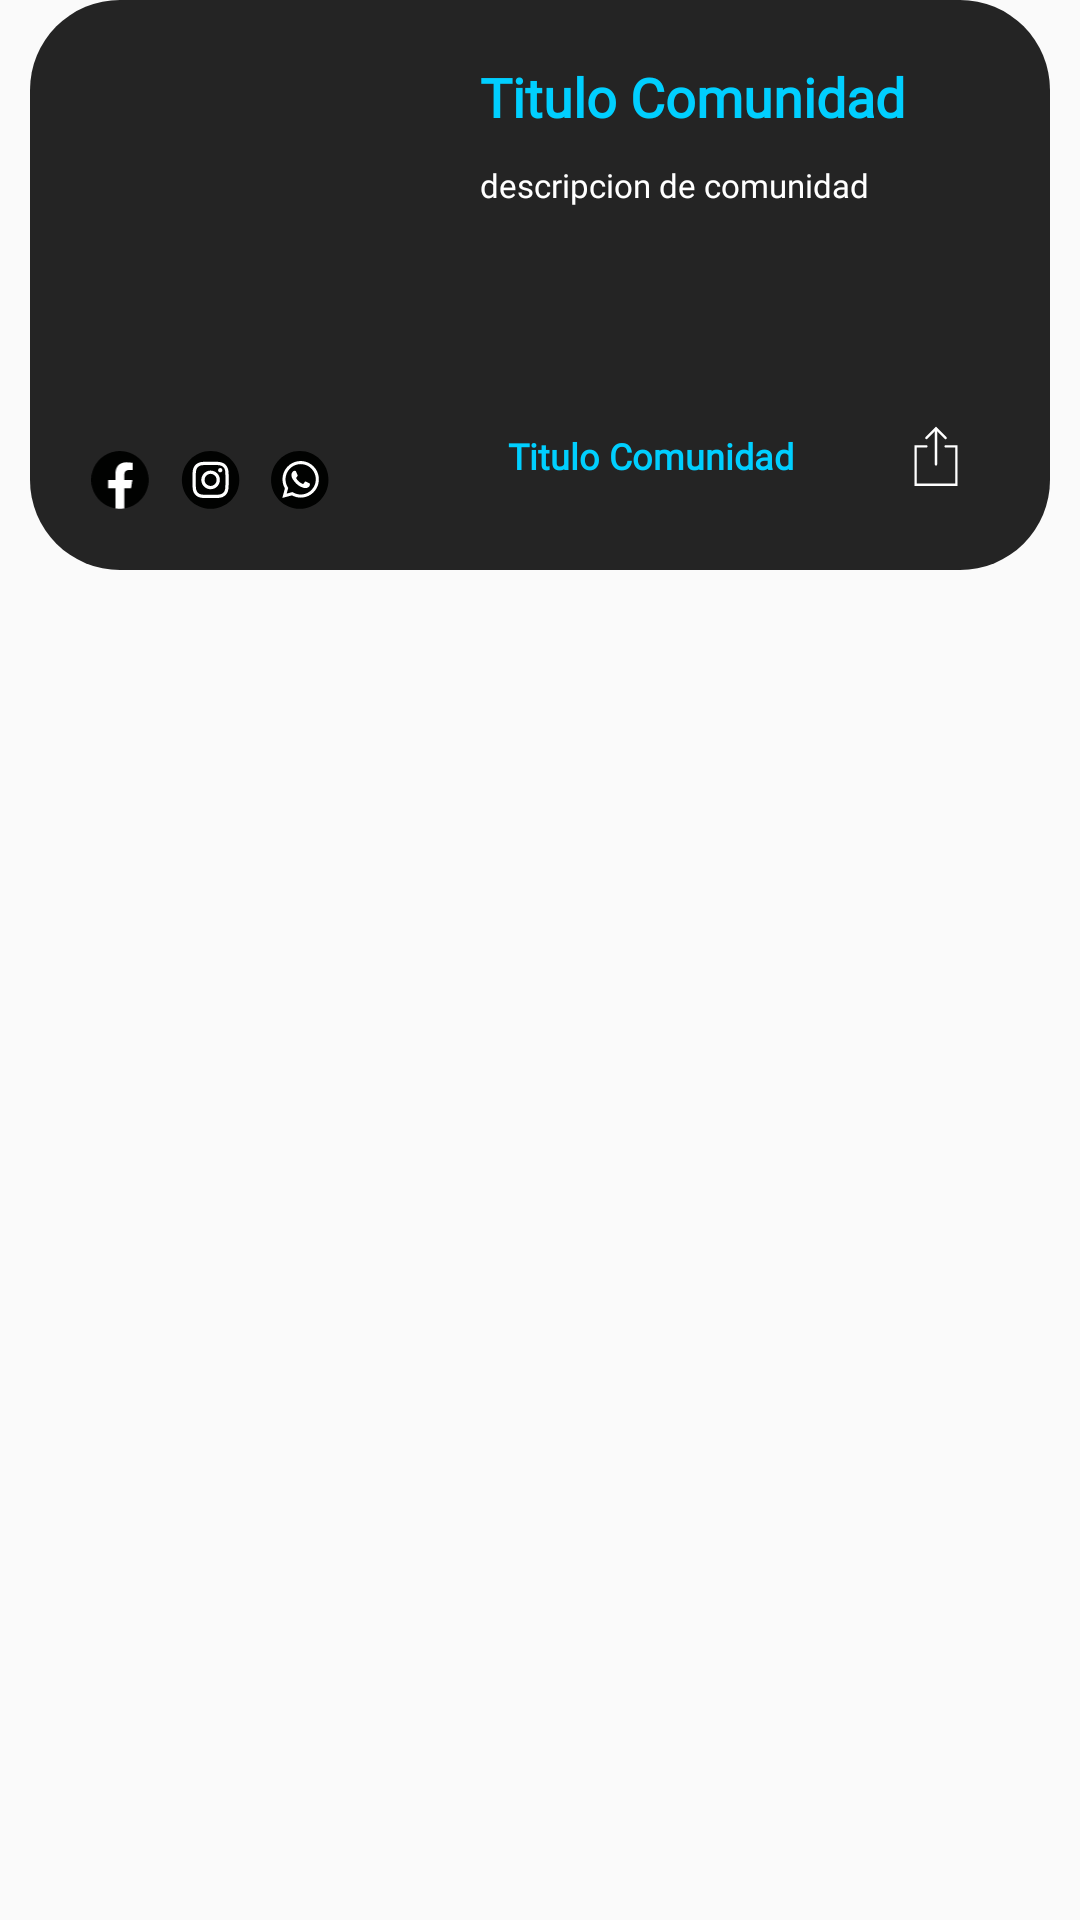

Icon bounding boxes for this 1080 × 1920 phone screenshot, format (x1, y1, x2, y2):
upload: (914, 427, 958, 486)
